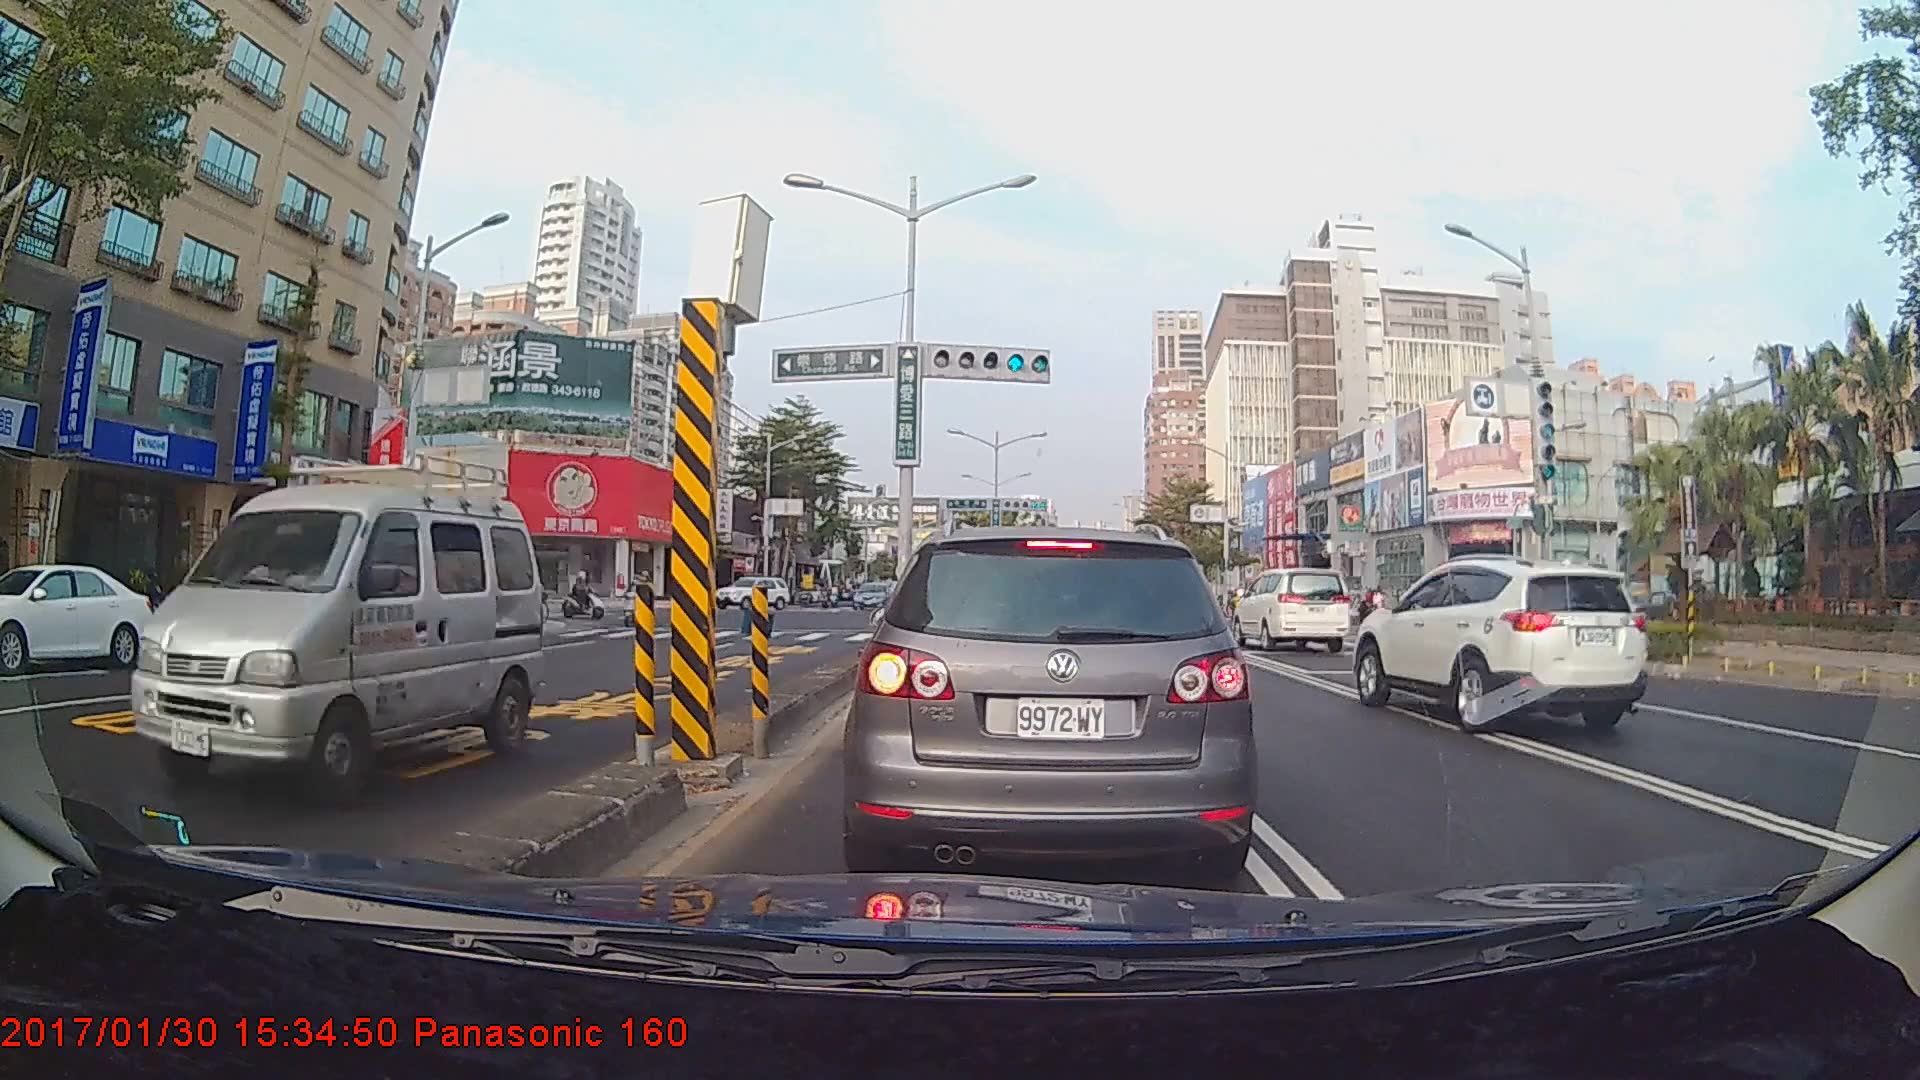rider: (562, 568, 614, 625), (1397, 580, 1422, 637)
vehicle: (128, 449, 544, 805), (852, 519, 1255, 878), (1348, 555, 1649, 731), (0, 561, 157, 671), (1227, 565, 1352, 654), (852, 580, 892, 611)
